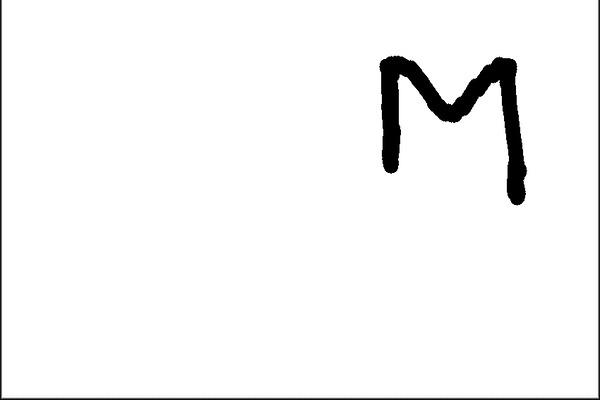M: (372, 40, 531, 205)
